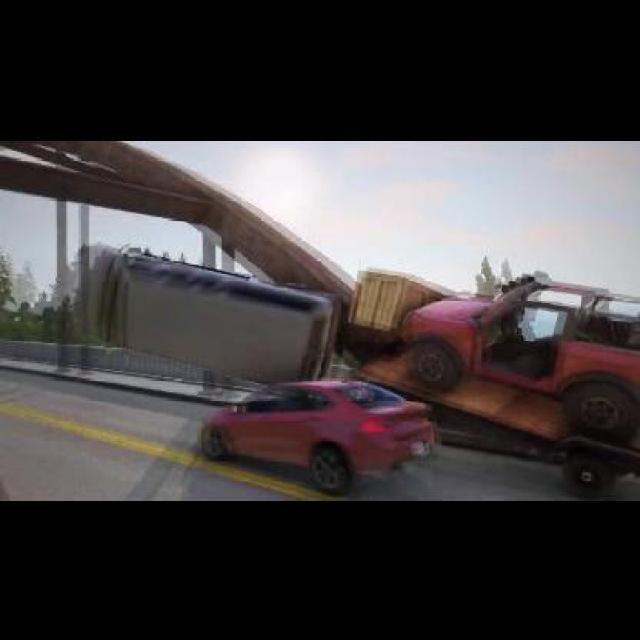accident: (70, 240, 384, 492)
